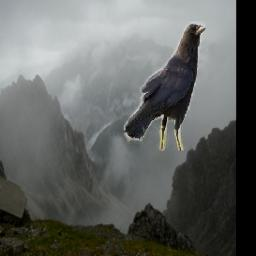Crow: (125, 22, 206, 151)
